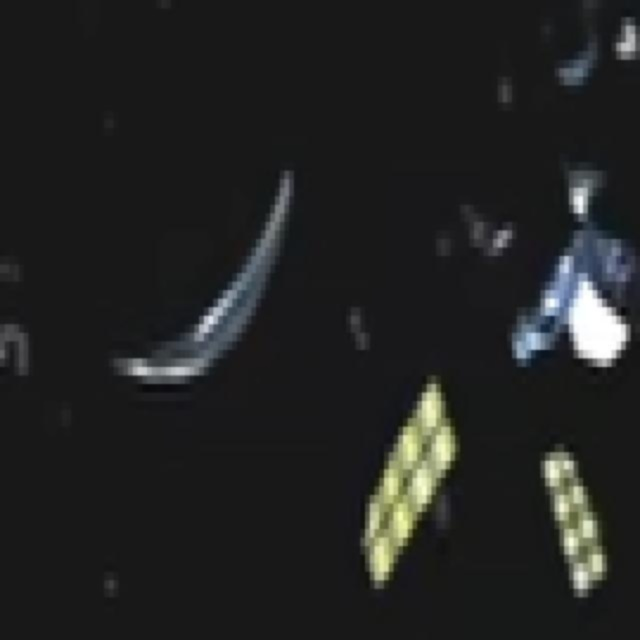large_debris: (101, 138, 302, 446), (492, 144, 640, 383), (342, 341, 467, 589), (534, 429, 621, 622), (544, 17, 640, 96), (0, 231, 33, 401)
